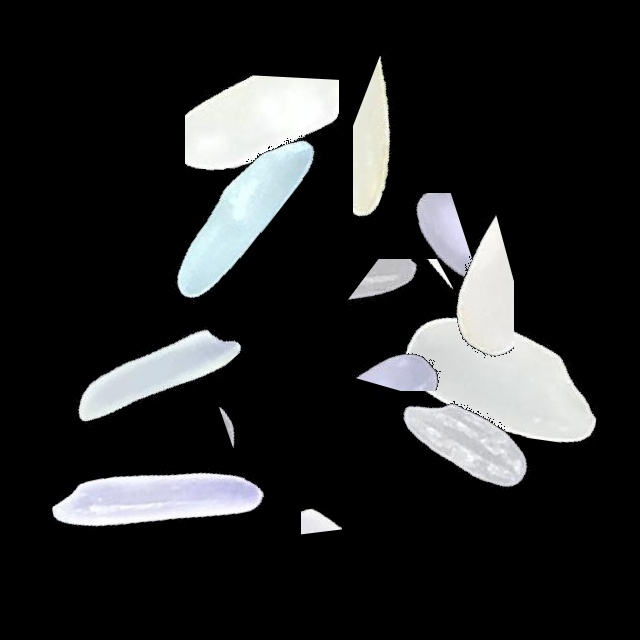Broken: (185, 27, 339, 277), (282, 193, 532, 312), (353, 11, 466, 261), (283, 279, 533, 391), (280, 259, 530, 371), (406, 163, 514, 413), (55, 328, 305, 422), (301, 362, 384, 612), (287, 259, 537, 342), (150, 405, 400, 487)
Full: (378, 253, 628, 503), (32, 251, 282, 501), (342, 316, 592, 566), (33, 372, 283, 622), (113, 89, 363, 339)
